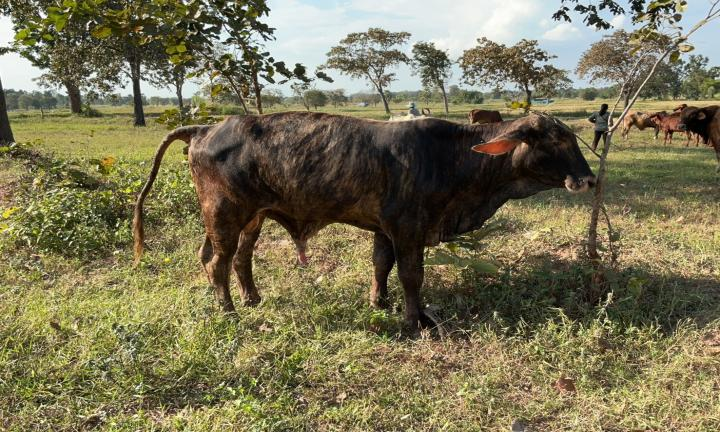Charolais: (133, 112, 596, 331)
